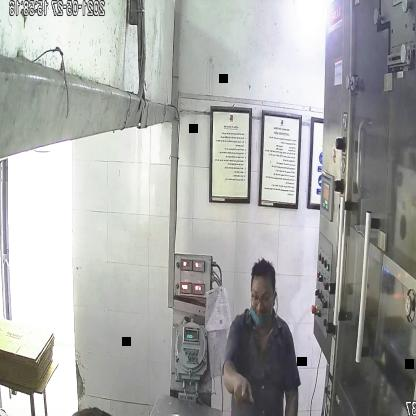goggles: (247, 286, 280, 309)
